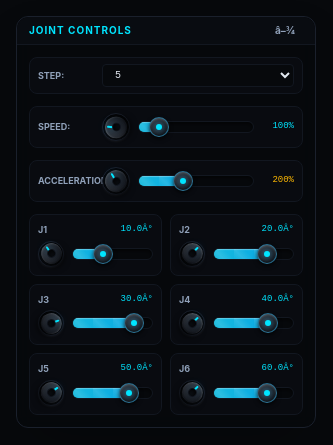
Test: JointControlsOverlay › collapses to its title bar
What coordinates should you click on to do the following:
click the button
I would click on:
 (285, 30)
Its box is top-left (267, 23), bottom-right (303, 38).
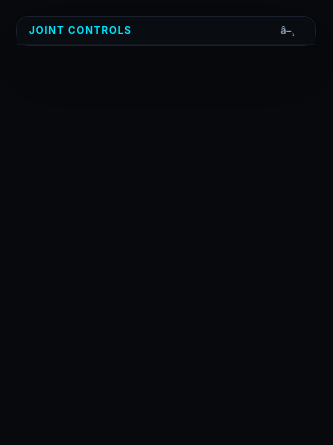
Expected: the text "Joint Controls" is shown, top-left (29, 23), bottom-right (132, 38)
Result: the dropdown is gone
